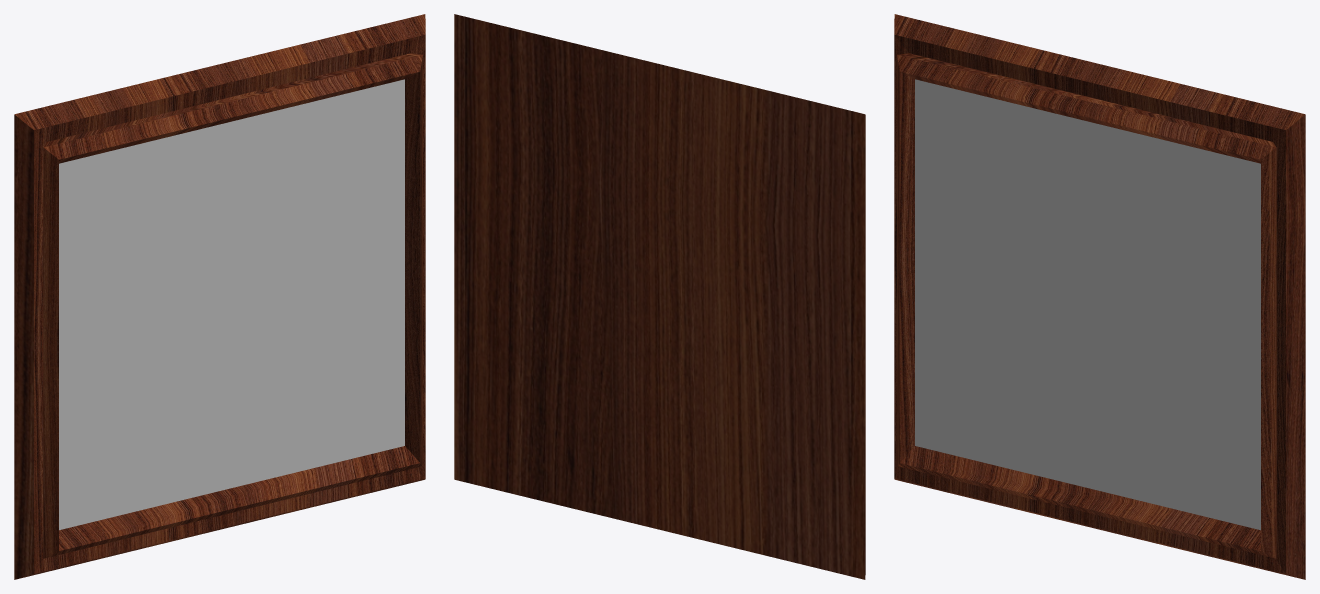
The model's file is OrenPortrait.fbx.
3 renders of one model, left to right at view 1: azimuth 30°, elevation 25°; view 2: azimuth 150°, elevation 25°; view 3: azimuth 330°, elevation 25°, orthographic.
Visible parts, largest first — view 1: Plane001; view 2: Plane001; view 3: Plane001.
Boxes of the visible parts, x1,y1,x2,y2 form: Plane001: (14,14,425,579); Plane001: (454,14,865,579); Plane001: (894,14,1305,579).
Bounding box in the file's own units: 49.72 × 53.81 × 4.14.
